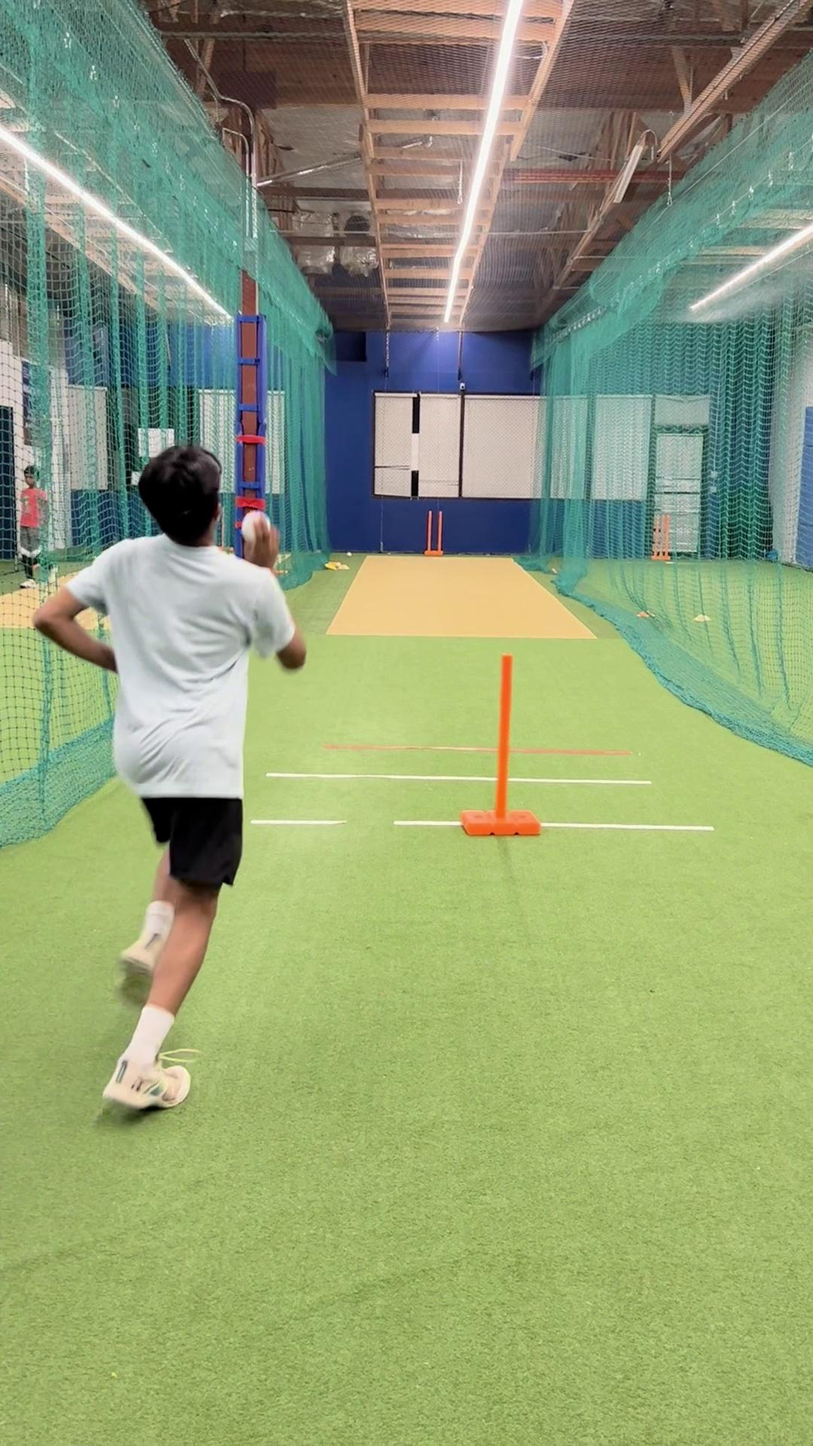ball: (230, 505, 279, 550)
